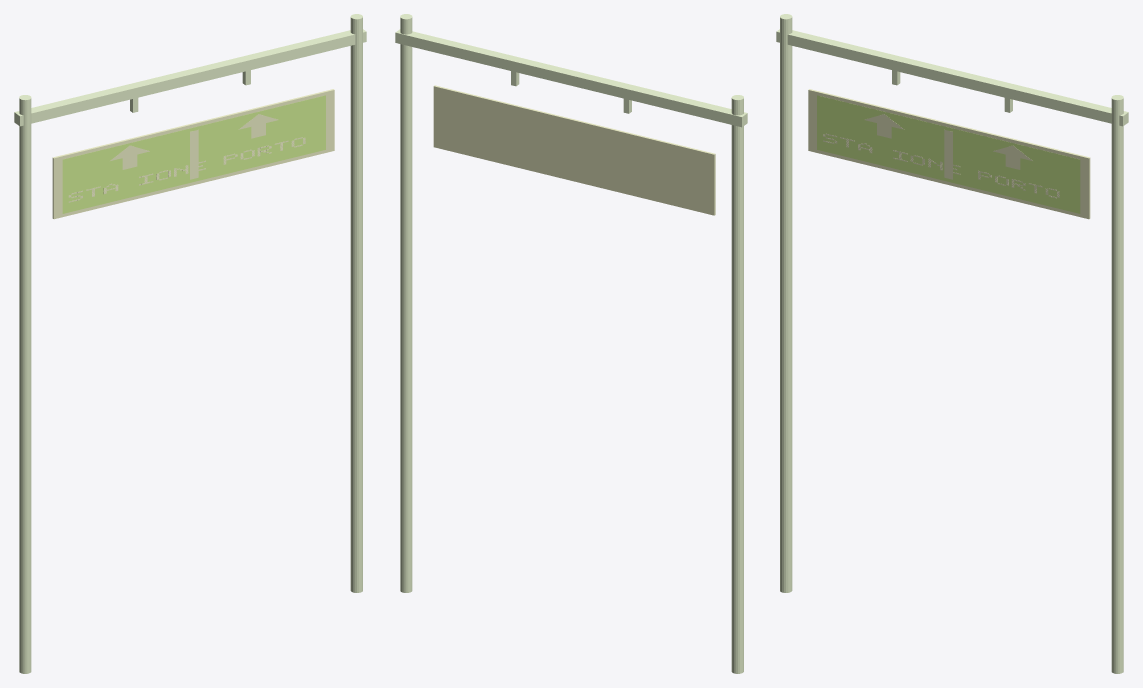
Rendered from sign_overhead_stazione_porto_split.glb.
The picture shows the model from 3 angles, left to right: view 1: azimuth 30°, elevation 25°; view 2: azimuth 150°, elevation 25°; view 3: azimuth 330°, elevation 25°; orthographic projection.
Parts seen in each view (by area): view 1: layer_1_00, pole_left, pole_right, crossbar, plate_base_00; view 2: plate_base_00, pole_left, pole_right, crossbar; view 3: layer_1_00, pole_right, pole_left, crossbar, plate_base_00.
Boxes of the visible parts, x1,y1,x2,y2 form: layer_1_00: (62,95,325,213); pole_left: (19,95,31,673); pole_right: (350,14,362,592); crossbar: (14,29,366,126); plate_base_00: (52,89,334,219); plate_base_00: (433,85,715,215); pole_left: (731,95,743,673); pole_right: (400,14,412,592); crossbar: (395,29,747,127); layer_1_00: (817,95,1080,213); pole_right: (1111,95,1123,673); pole_left: (780,14,792,592); crossbar: (776,29,1128,126); plate_base_00: (808,89,1090,219).
Size of the model in its own units: 3.2 by 5.06 by 0.108.
